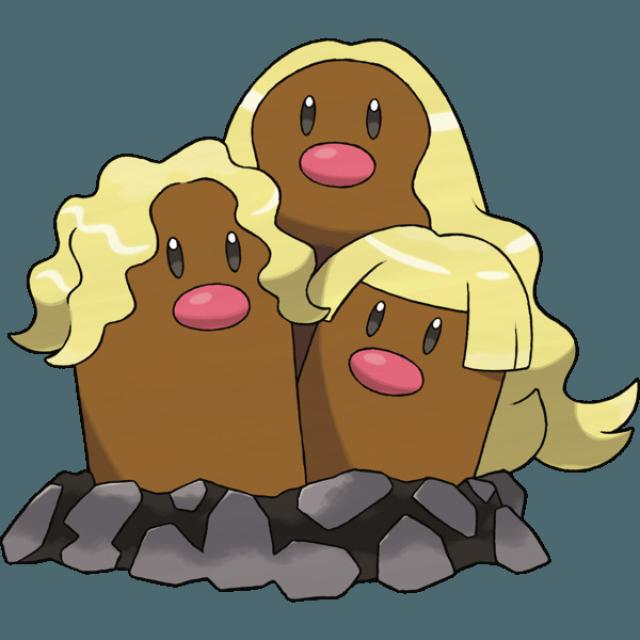Dugtrio: (54, 31, 556, 486)
